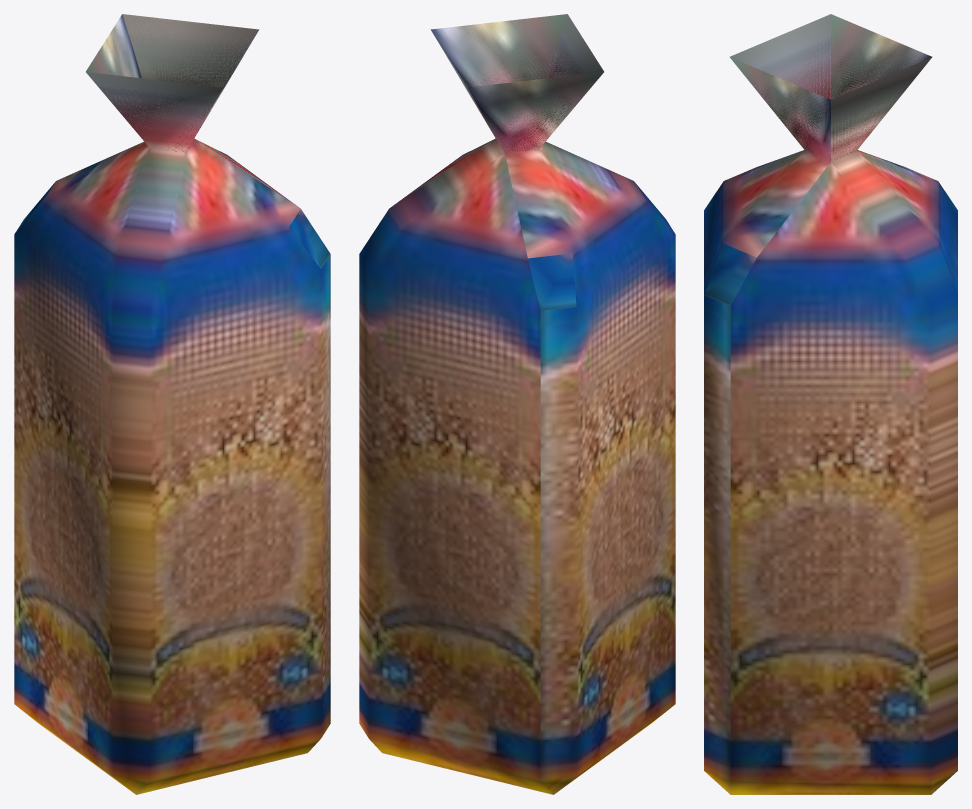
File: bread.glb
3 views of the same model, side by side, from view 1: azimuth 30°, elevation 25°; view 2: azimuth 150°, elevation 25°; view 3: azimuth 270°, elevation 25° (orthographic).
Visible parts, largest first — view 1: bread; view 2: bread; view 3: bread.
Boxes of the visible parts, x1,y1,x2,y2 form: bread: (14,14,330,794); bread: (359,14,675,794); bread: (704,14,957,794).
Bounding box in the file's own units: 0.1693 × 0.5117 × 0.1693.
1 material, 1 textured.
